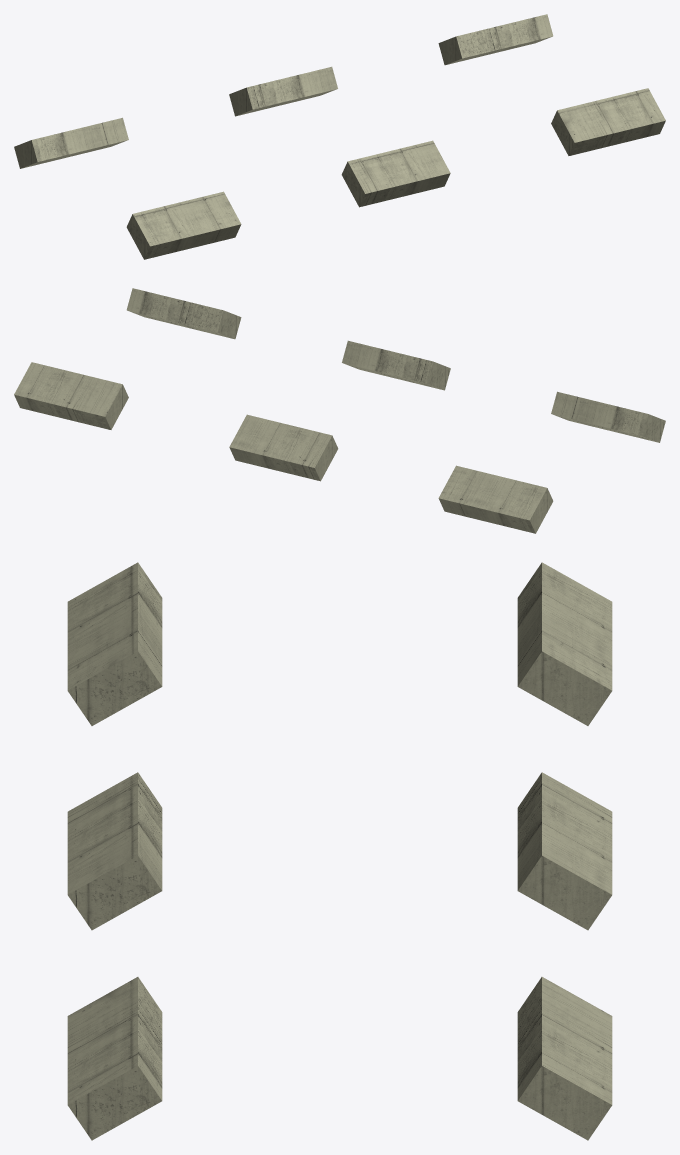
The model's file is SM_NeoLD_07_Col_00.fbx.
3 renders of one model, top to bottom at view 1: azimuth 30°, elevation 25°; view 2: azimuth 150°, elevation 25°; view 3: azimuth 270°, elevation 25°, orthographic. The views are drawn at different scales.
Visible parts, largest first — view 1: SM_NeoLD_07_Col_00; view 2: SM_NeoLD_07_Col_00; view 3: SM_NeoLD_07_Col_00.
Boxes of the visible parts, <box> form: SM_NeoLD_07_Col_00: <box>14,14,665,259</box>; SM_NeoLD_07_Col_00: <box>14,288,665,533</box>; SM_NeoLD_07_Col_00: <box>67,562,612,1140</box>.
Size of the model in its own units: 2773 by 193 by 1268.
